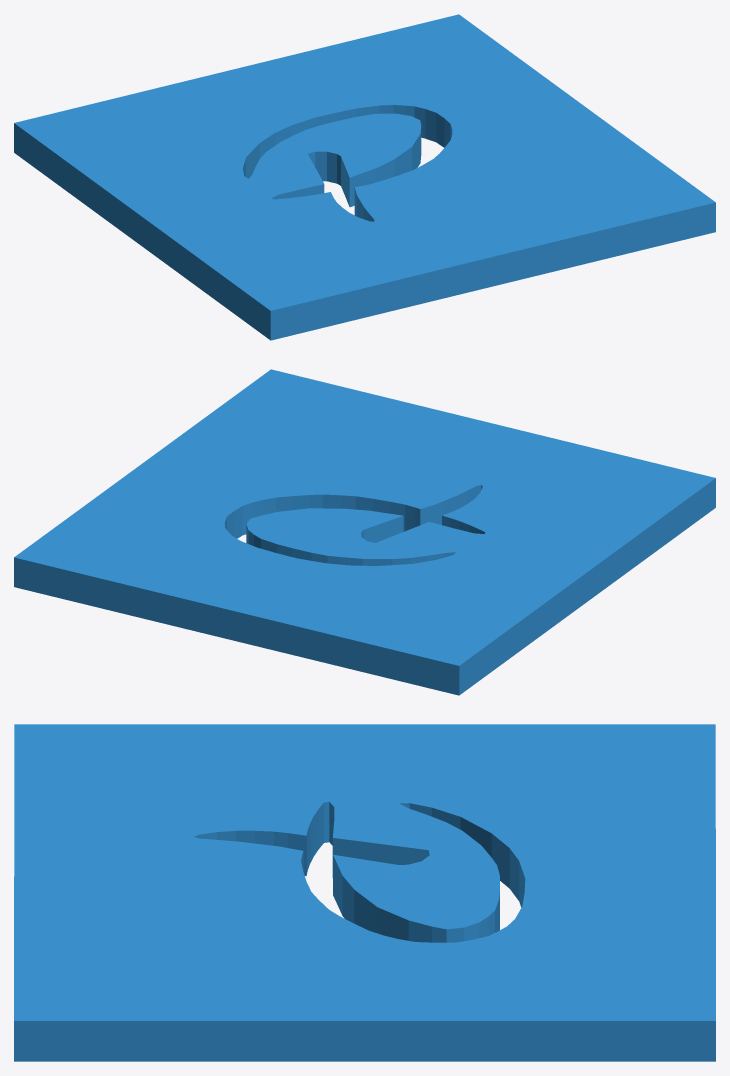
Rendered from postalgia.glb.
3 views of the same model, one above another, from view 1: azimuth 30°, elevation 25°; view 2: azimuth 150°, elevation 25°; view 3: azimuth 270°, elevation 25° (orthographic). The views are drawn at different scales.
Visible parts, largest first — view 1: Cube; view 2: Cube; view 3: Cube.
Boxes of the visible parts, bbox=[...] form: Cube: bbox=[14, 14, 715, 340]; Cube: bbox=[14, 369, 715, 695]; Cube: bbox=[14, 724, 715, 1061].
Bounding box in the file's own units: 5 × 0.3187 × 5.
